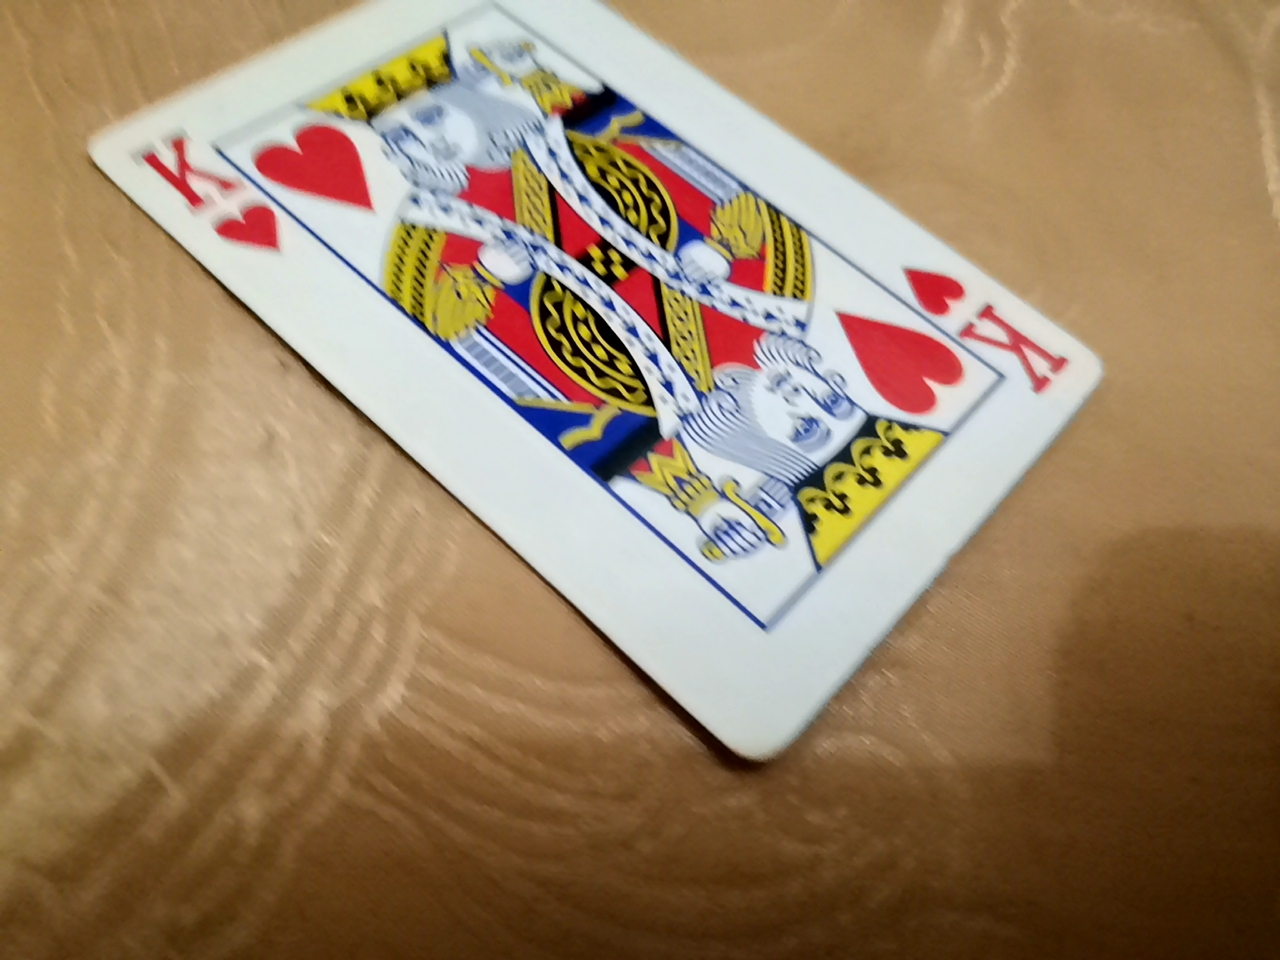hx k: (130, 27, 1151, 817)
